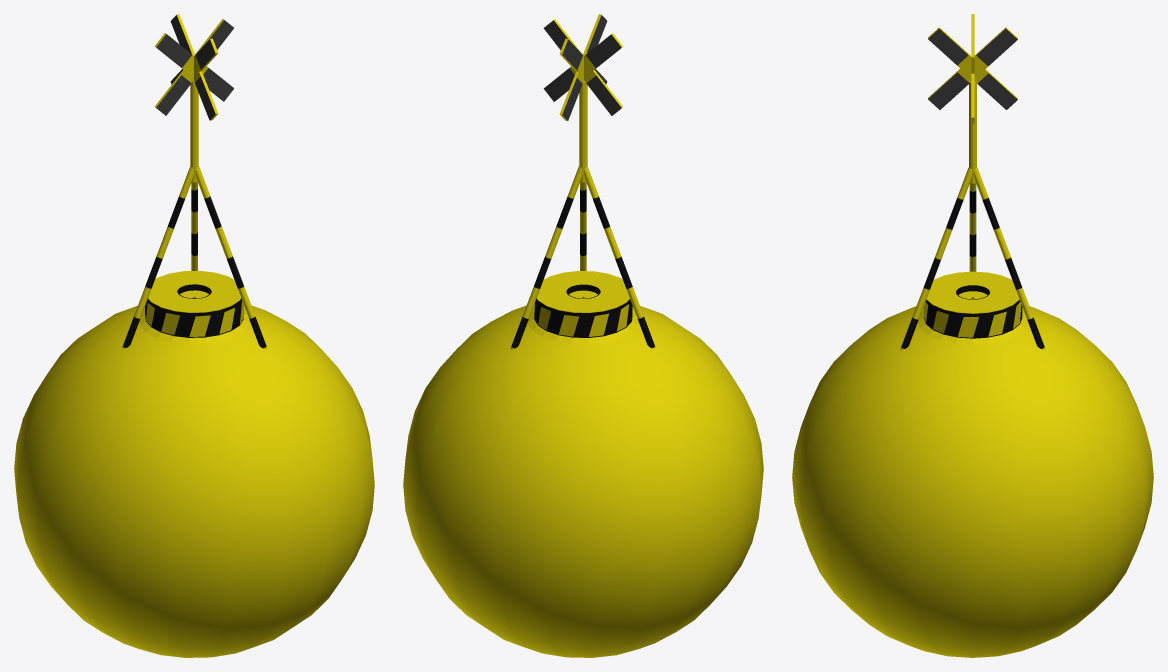
The model's file is buoyOBJ_v1.obj.
The picture shows the model from 3 angles, left to right: view 1: azimuth 30°, elevation 25°; view 2: azimuth 150°, elevation 25°; view 3: azimuth 270°, elevation 25°; orthographic projection.
Parts seen in each view (by area): view 1: buoy; view 2: buoy; view 3: buoy.
Boxes of the visible parts, x1,y1,x2,y2 form: buoy: [14, 14, 374, 657]; buoy: [403, 14, 763, 657]; buoy: [792, 14, 1153, 657].
Size of the model in its own units: 5.3 by 9.92 by 5.3.
